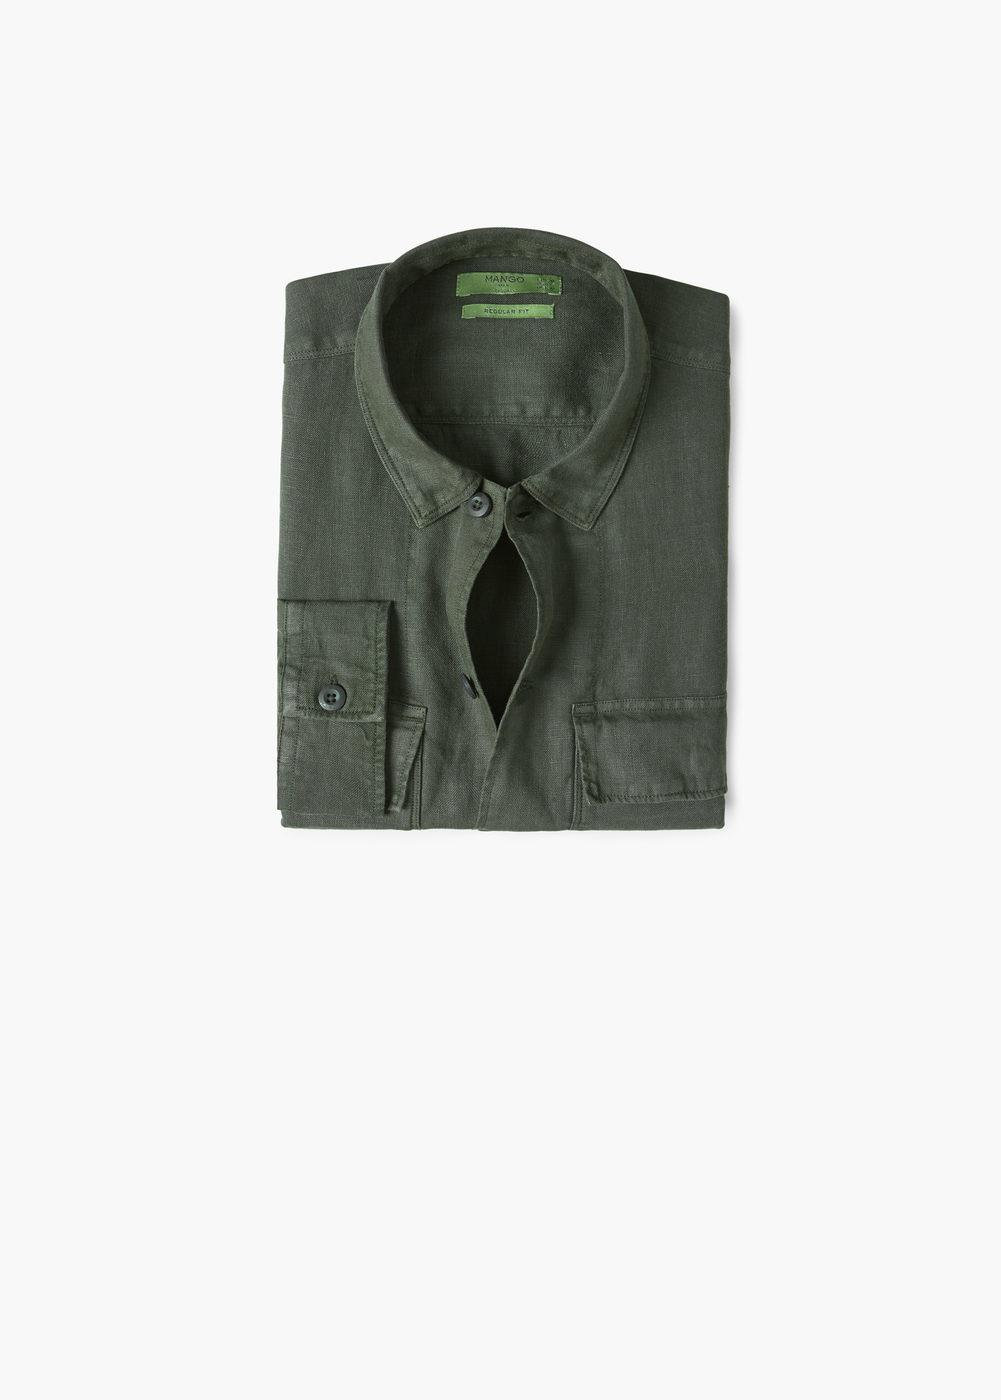teeshirt: (257, 227, 760, 901)
